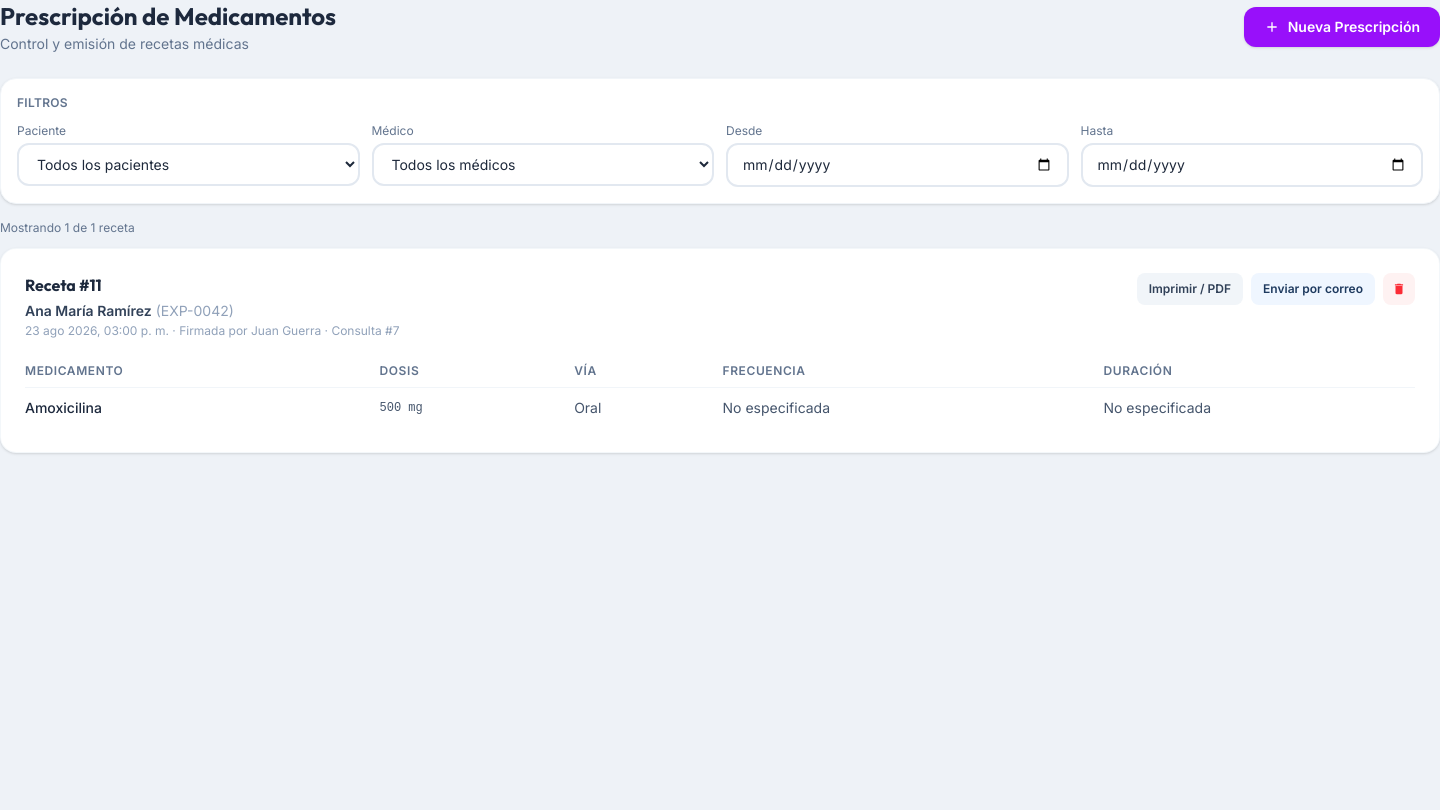
Test case: recetas · anulación › deja la receta en la lista, marcada como anulada, solo cuando el servidor confirmó
Expected: the heading "Receta #11" is shown, [25, 275, 102, 295]
Click the button named "anular la receta 11": [1399, 289] box [1383, 273, 1415, 305]
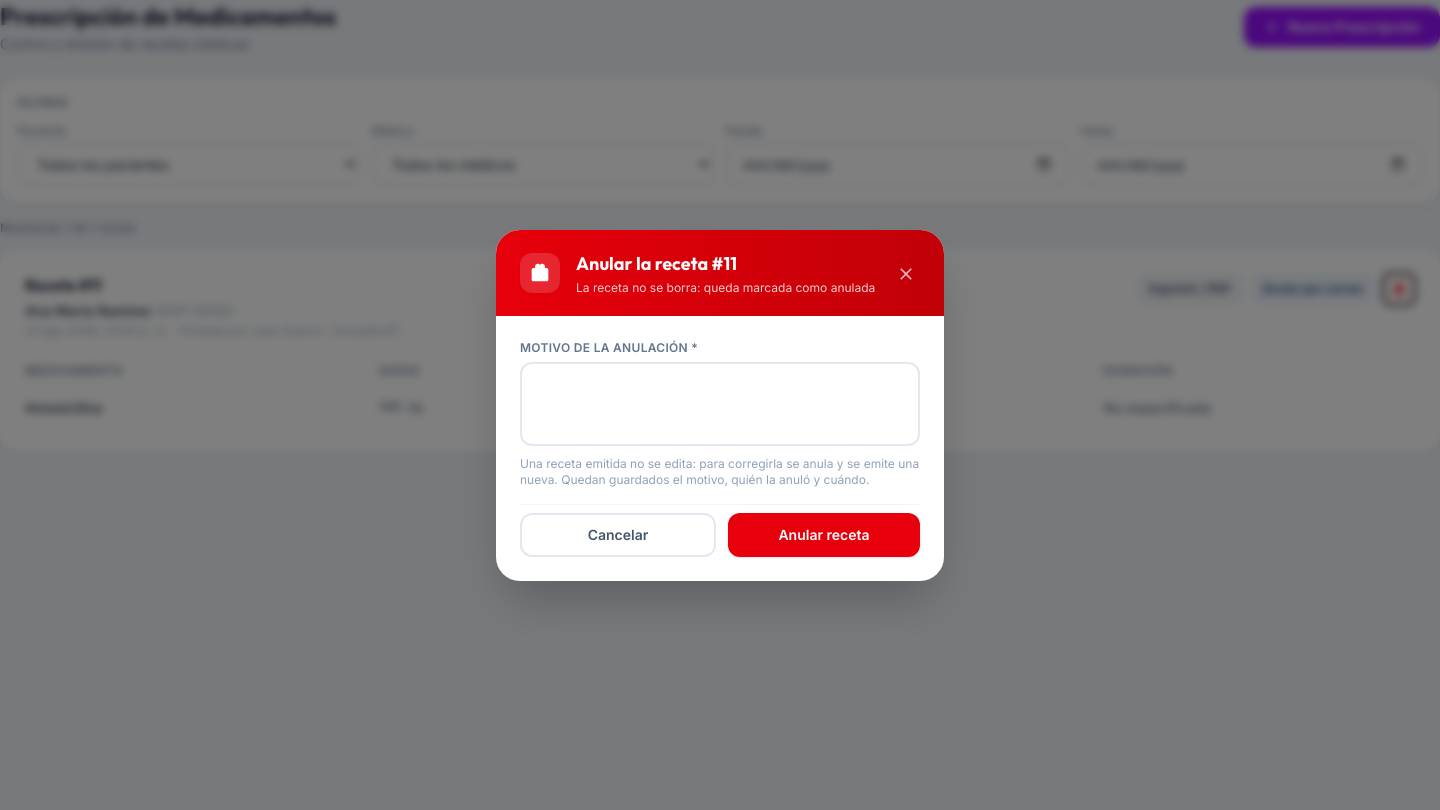
In the text box labelled "Motivo de la anulación *": [720, 404] box [520, 362, 920, 446], type "Error al elegir el medicamento"
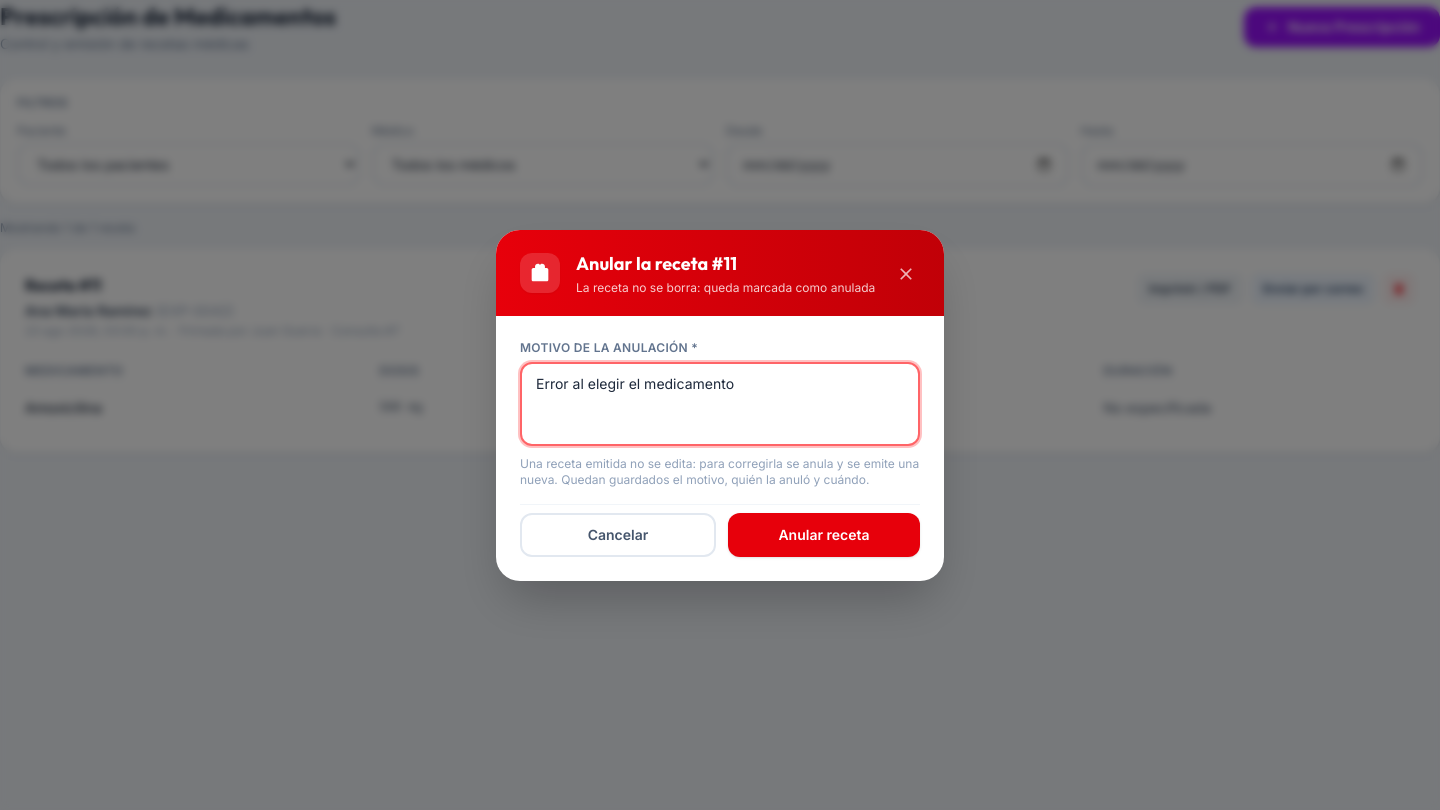
Click the button "Anular receta": [824, 534] box [728, 512, 920, 556]
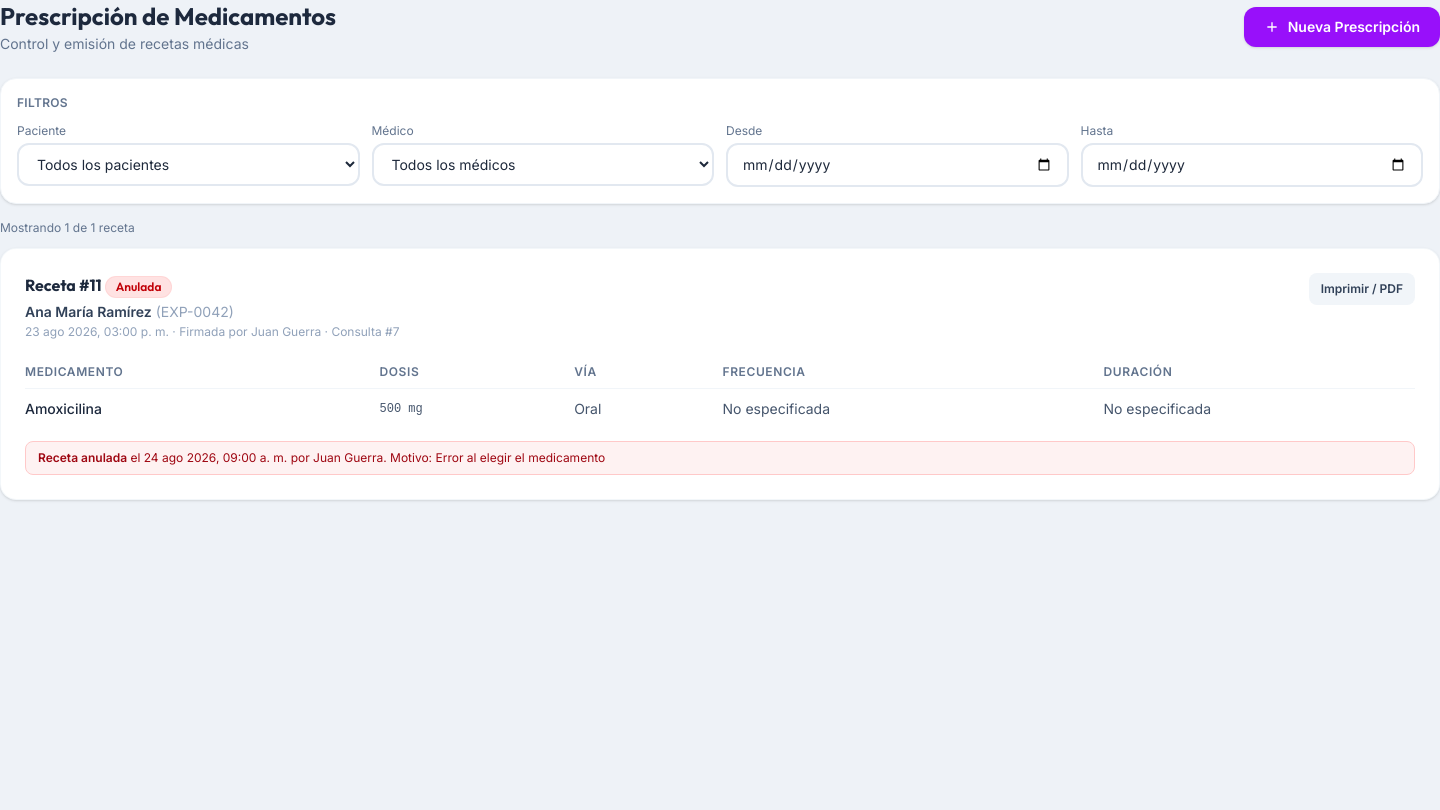
Expected: the heading "Receta #11 Anulada" is shown, [25, 275, 172, 298]
Result: the text "Receta anulada" is shown at [38, 450, 127, 465]
Result: the text "Error al elegir el medicamento" is shown at [436, 450, 605, 465]
